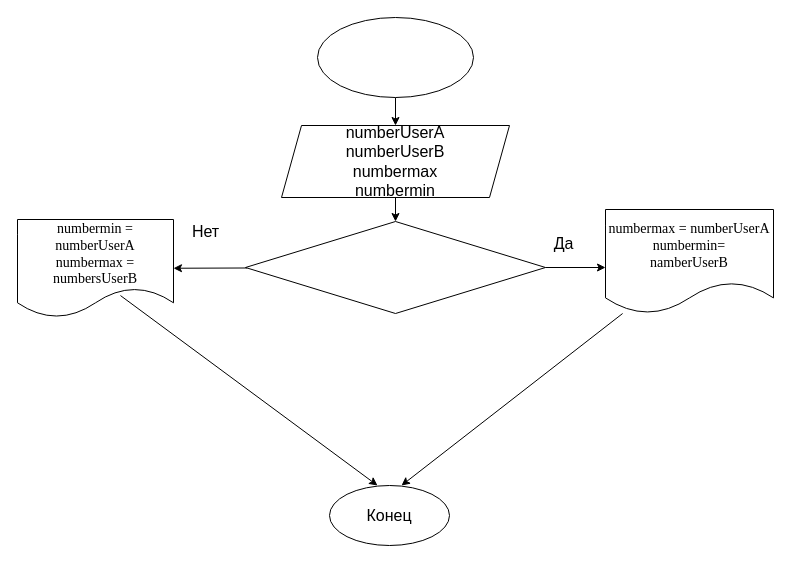
This 791x563 diagram has some shape labels left out. The box of each missing label's shape, as (x1, y1, x2, y2) in pixels:
if (namberUserA > nuberUserB): (244, 220, 546, 314)
Старт: (316, 16, 474, 98)
